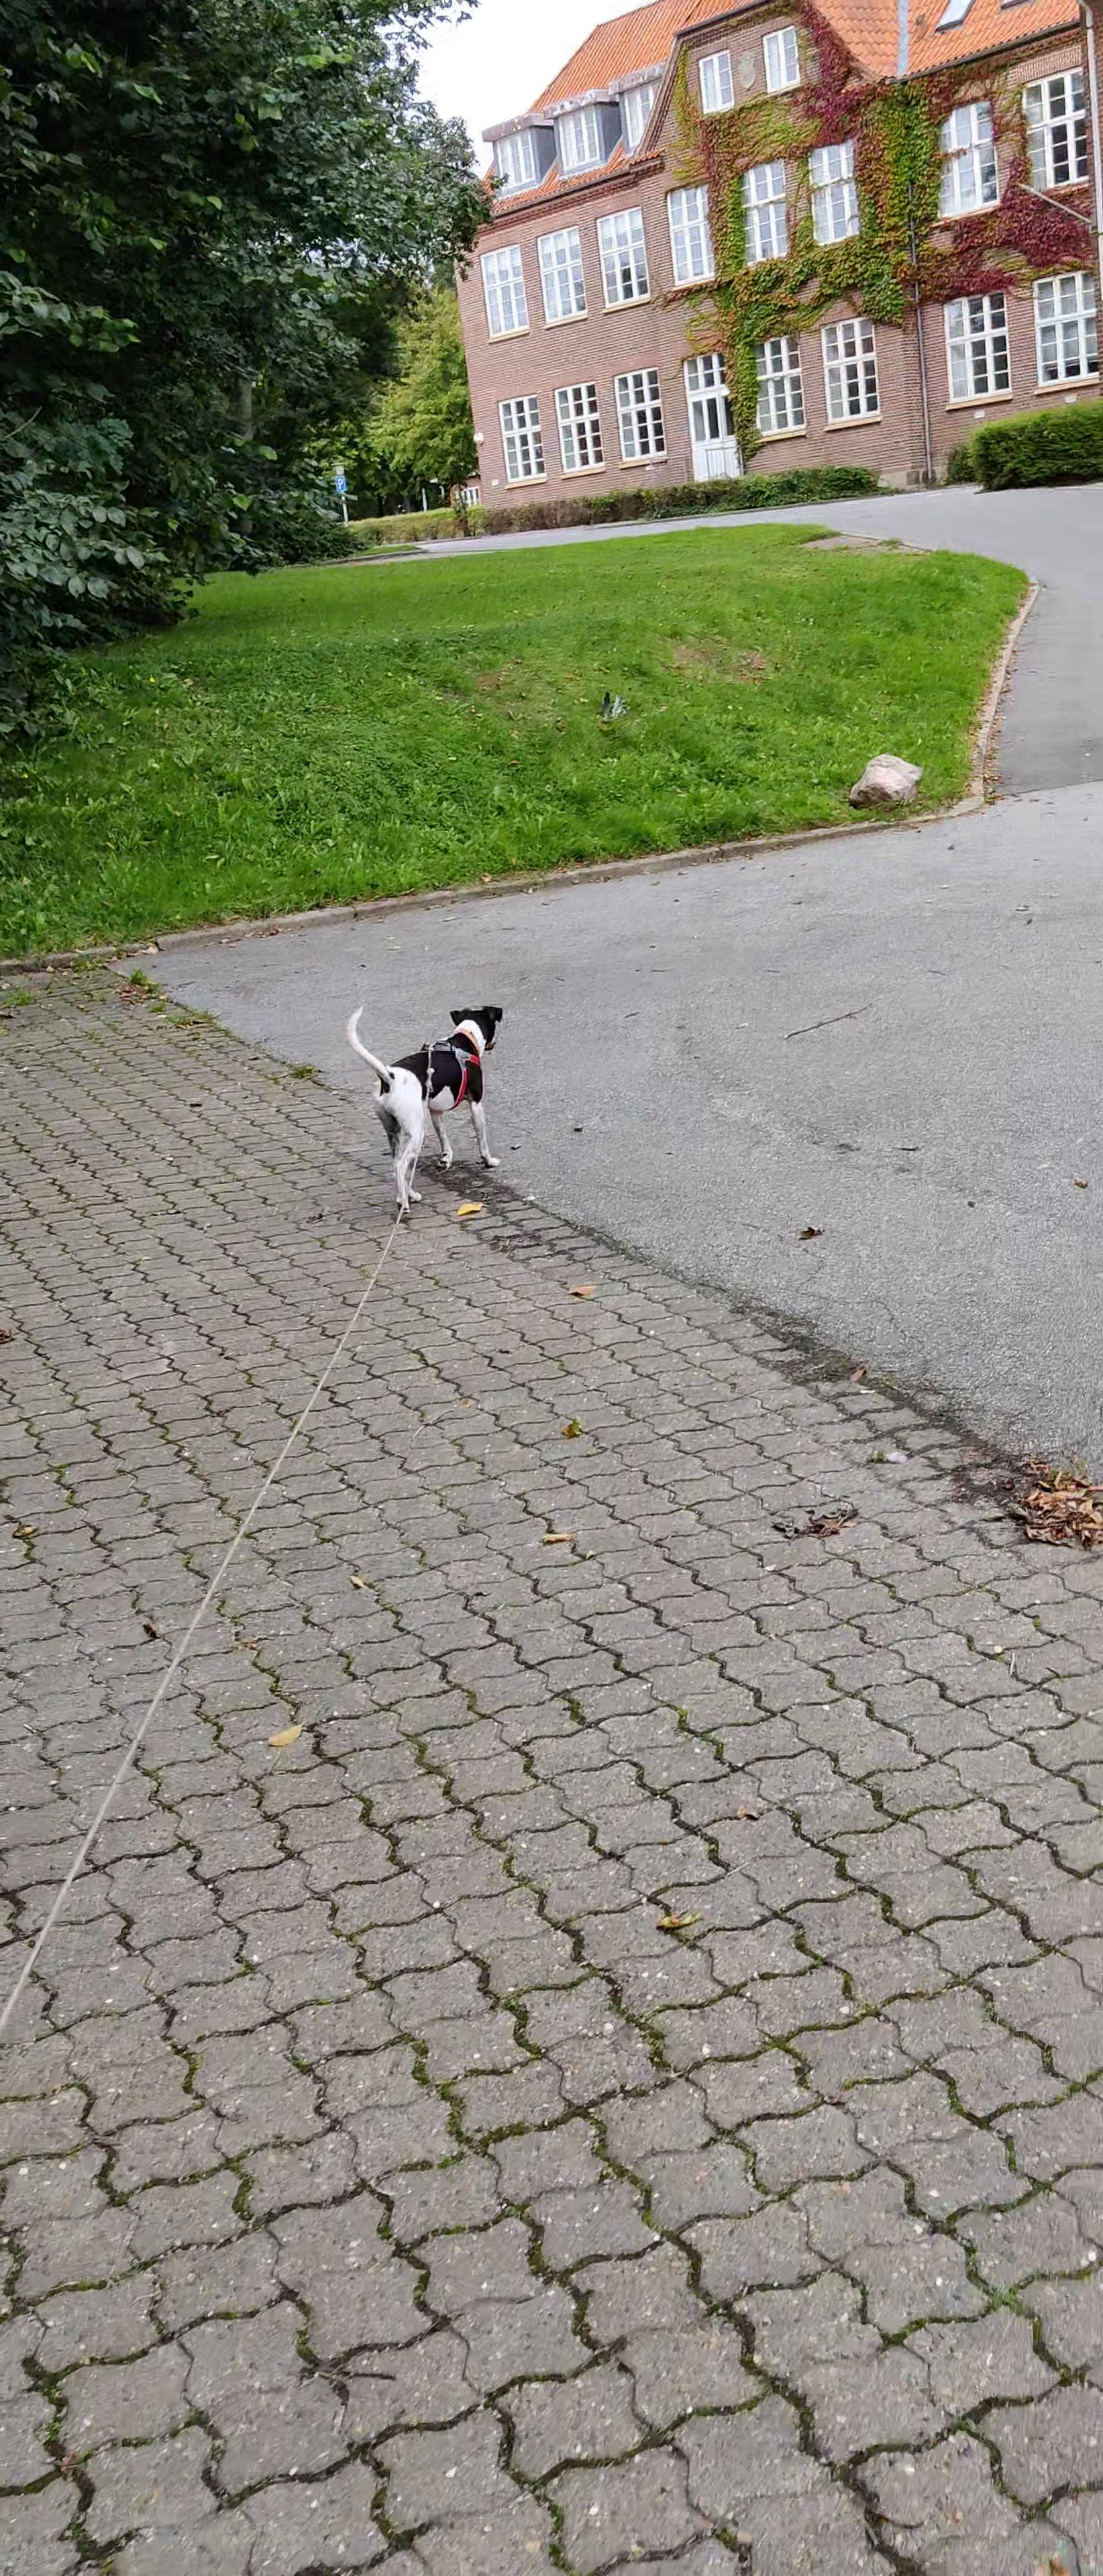Dog: (340, 996, 515, 1232)
